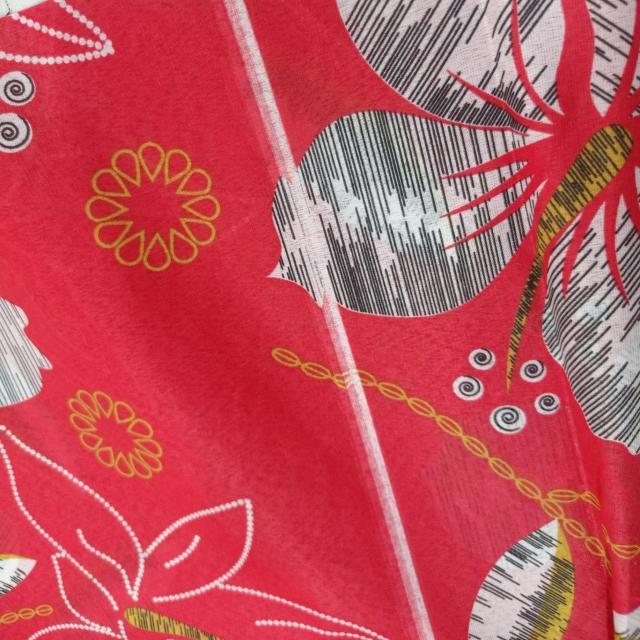selvet: (311, 277, 434, 640), (225, 3, 326, 276)
